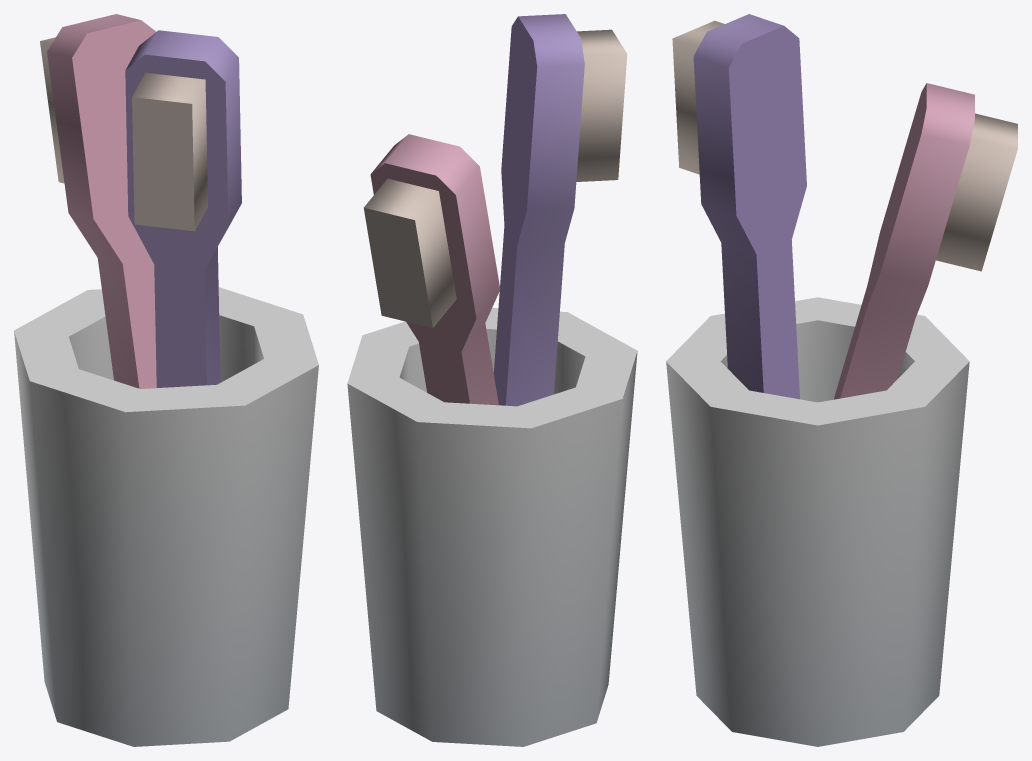
File: toothbrushes.glb
3 renders of one model, left to right at view 1: azimuth 30°, elevation 25°; view 2: azimuth 150°, elevation 25°; view 3: azimuth 270°, elevation 25°, orthographic. The views are drawn at different scales.
Parts seen in each view (by area): view 1: toothbrushes; view 2: toothbrushes; view 3: toothbrushes.
Boxes of the visible parts, x1=… form: toothbrushes: x1=14, y1=14, x2=318, y2=746; toothbrushes: x1=347, y1=14, x2=637, y2=746; toothbrushes: x1=666, y1=14, x2=1017, y2=746.
Size of the model in its own units: 0.1353 by 0.3235 by 0.1568.
